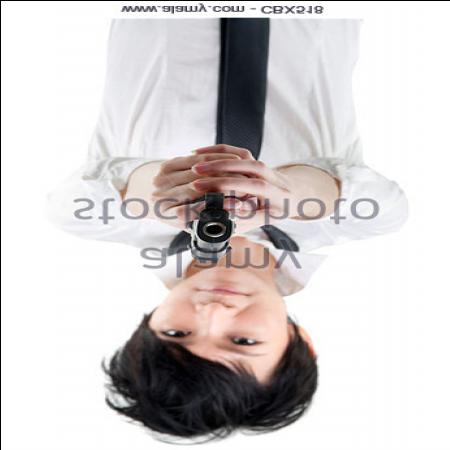Pistol: (182, 176, 236, 262)
